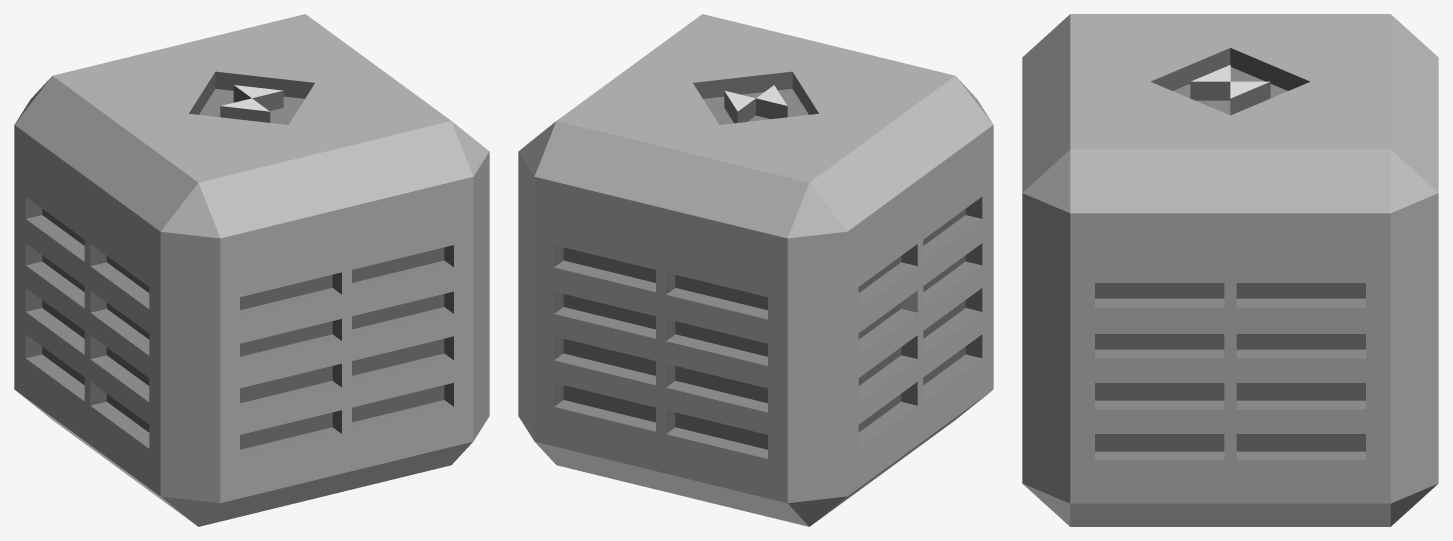
File: crate.glb
The picture shows the model from 3 angles, left to right: view 1: azimuth 30°, elevation 25°; view 2: azimuth 150°, elevation 25°; view 3: azimuth 270°, elevation 25°; orthographic projection. The views are drawn at different scales.
Visible parts, largest first — view 1: Crate-col; view 2: Crate-col; view 3: Crate-col.
Boxes of the visible parts, x1,y1,x2,y2 form: Crate-col: [14, 14, 489, 526]; Crate-col: [518, 14, 993, 526]; Crate-col: [1022, 14, 1438, 526].
Bounding box in the file's own units: 1 × 1 × 1.
Materials: 2 (1 with a texture image).
